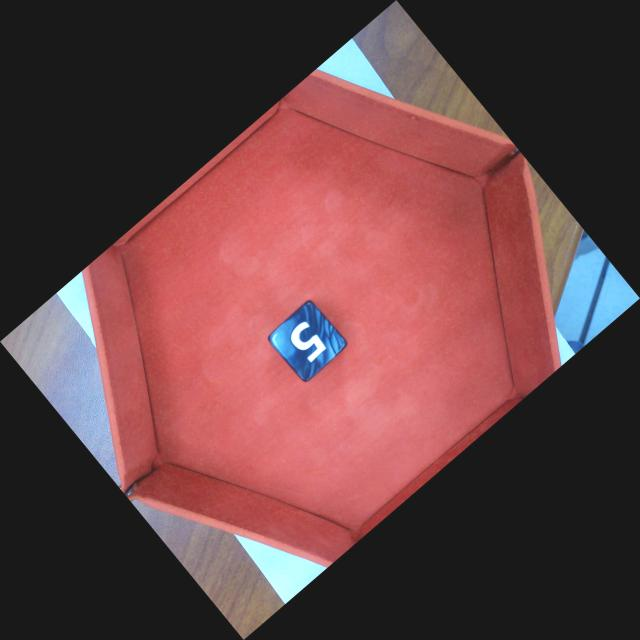dice: (267, 296, 349, 385)
